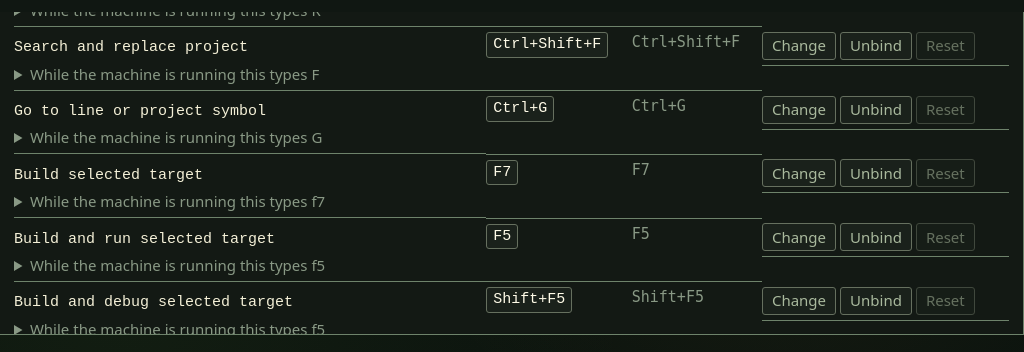
Scenario: KeyboardShortcutsPanel › reports a conflict against the other command that claims the chord
The image size is (1024, 352).
(page scrolled)
Click the button "Change" in the row of "Build selected target" at (799, 173), box [762,159,836,187]
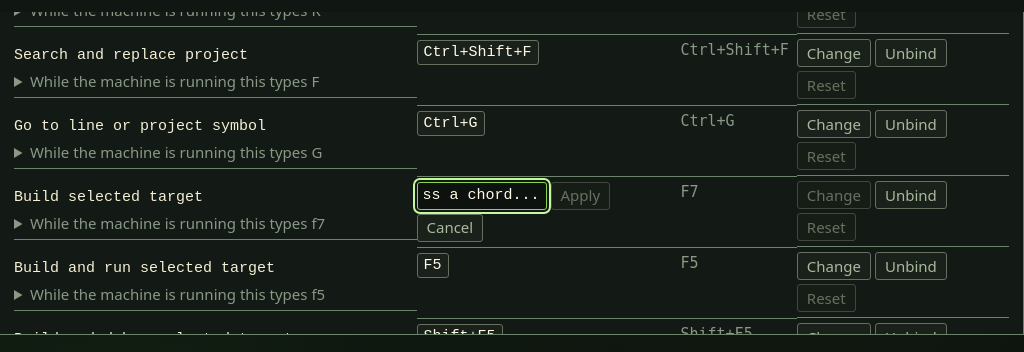
Press F5 in the field named "Press the new chord for Build selected target", box [416,182,546,210]
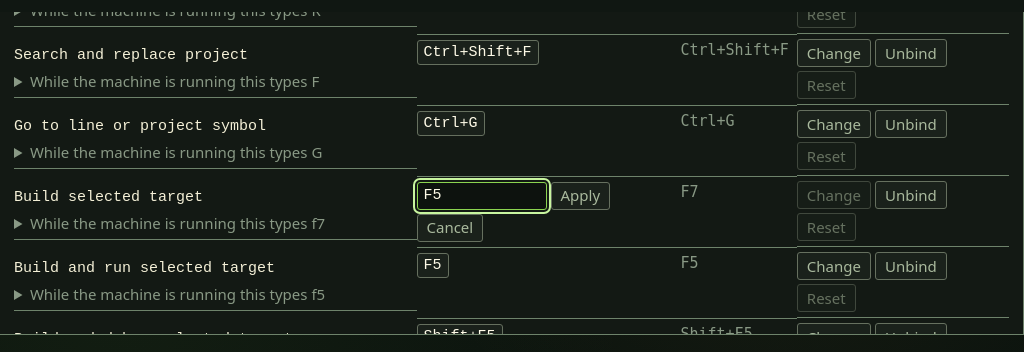
Click the button "Apply" at (580, 196), box [550,182,610,210]
(page scrolled)
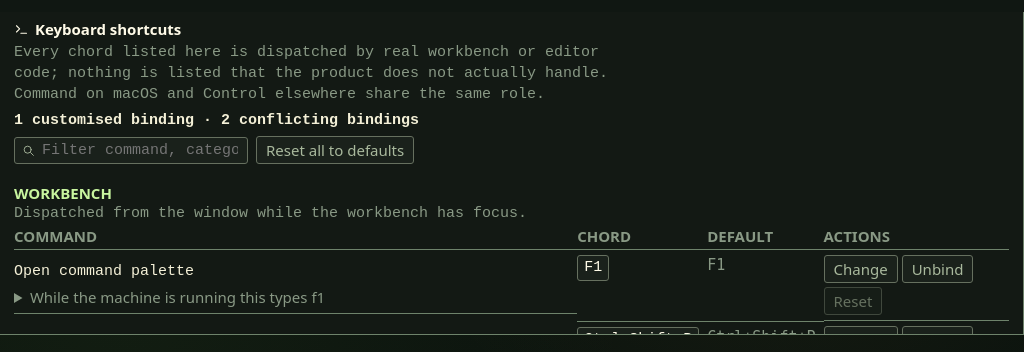
Now the message shows "2 conflicting bindings", box [194,112,419,129]
